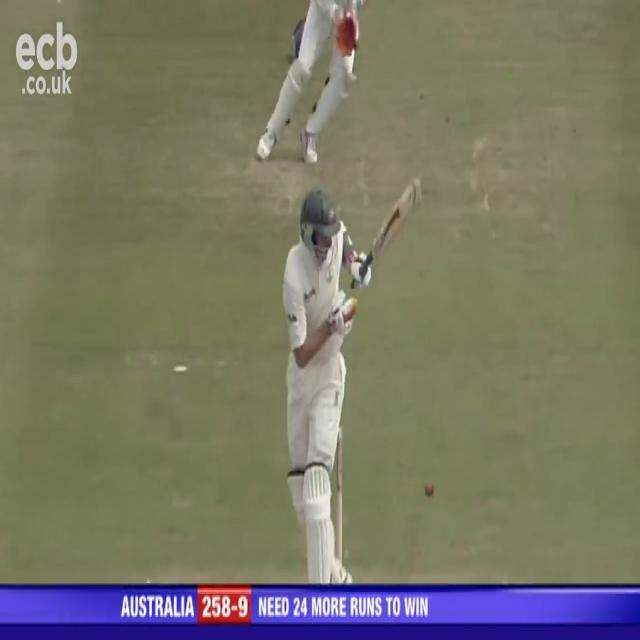ball: (422, 476, 438, 502)
